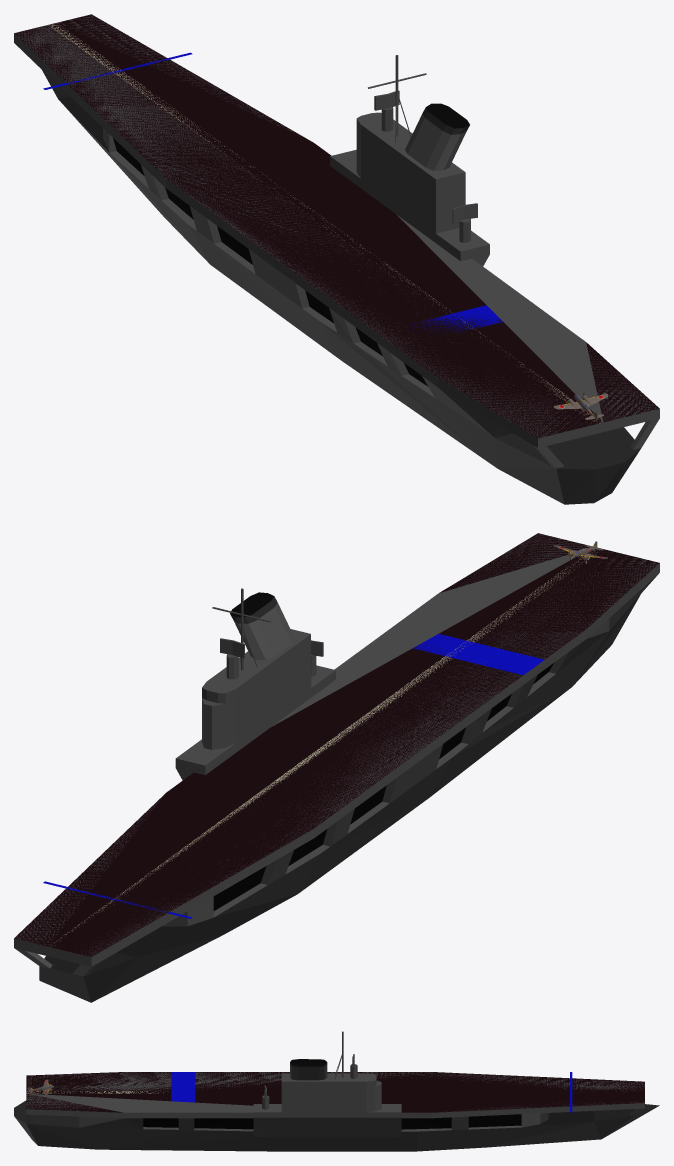
File: Shinano.obj
The picture shows the model from 3 angles, top to bottom: view 1: azimuth 30°, elevation 25°; view 2: azimuth 150°, elevation 25°; view 3: azimuth 270°, elevation 25°; orthographic projection. The views are drawn at different scales.
Visible parts, largest first — view 1: ShapeIndexedFaceSet.008_ShapeIndexedFaceSet.009, ShapeIndexedFaceSet_ShapeIndexedFaceSet.001, ShapeIndexedFaceSet.001_ShapeIndexedFaceSet.002, ShapeIndexedFaceSet.002_ShapeIndexedFaceSet.003, ShapeIndexedFaceSet.009_ShapeIndexedFaceSet.010, ShapeIndexedFaceSet.004_ShapeIndexedFaceSet.005, ShapeIndexedFaceSet.003_ShapeIndexedFaceSet.004; view 2: ShapeIndexedFaceSet.008_ShapeIndexedFaceSet.009, ShapeIndexedFaceSet_ShapeIndexedFaceSet.001, ShapeIndexedFaceSet.002_ShapeIndexedFaceSet.003, ShapeIndexedFaceSet.009_ShapeIndexedFaceSet.010, ShapeIndexedFaceSet.004_ShapeIndexedFaceSet.005, ShapeIndexedFaceSet.003_ShapeIndexedFaceSet.004, ShapeIndexedFaceSet.001_ShapeIndexedFaceSet.002, ShapeIndexedFaceSet.007_ShapeIndexedFaceSet.008; view 3: ShapeIndexedFaceSet_ShapeIndexedFaceSet.001, ShapeIndexedFaceSet.008_ShapeIndexedFaceSet.009, ShapeIndexedFaceSet.002_ShapeIndexedFaceSet.003, ShapeIndexedFaceSet.001_ShapeIndexedFaceSet.002, ShapeIndexedFaceSet.009_ShapeIndexedFaceSet.010, ShapeIndexedFaceSet.003_ShapeIndexedFaceSet.004, ShapeIndexedFaceSet.007_ShapeIndexedFaceSet.008.
Part boxes in pixels (bbox=[...]): ShapeIndexedFaceSet.008_ShapeIndexedFaceSet.009: bbox=[14, 14, 659, 438]; ShapeIndexedFaceSet_ShapeIndexedFaceSet.001: bbox=[14, 15, 659, 504]; ShapeIndexedFaceSet.001_ShapeIndexedFaceSet.002: bbox=[422, 107, 640, 469]; ShapeIndexedFaceSet.002_ShapeIndexedFaceSet.003: bbox=[113, 103, 469, 386]; ShapeIndexedFaceSet.009_ShapeIndexedFaceSet.010: bbox=[411, 305, 502, 333]; ShapeIndexedFaceSet.004_ShapeIndexedFaceSet.005: bbox=[49, 23, 602, 423]; ShapeIndexedFaceSet.003_ShapeIndexedFaceSet.004: bbox=[58, 96, 108, 151]; ShapeIndexedFaceSet.008_ShapeIndexedFaceSet.009: bbox=[14, 533, 659, 957]; ShapeIndexedFaceSet_ShapeIndexedFaceSet.001: bbox=[14, 534, 659, 1002]; ShapeIndexedFaceSet.002_ShapeIndexedFaceSet.003: bbox=[213, 592, 553, 910]; ShapeIndexedFaceSet.009_ShapeIndexedFaceSet.010: bbox=[413, 634, 544, 675]; ShapeIndexedFaceSet.004_ShapeIndexedFaceSet.005: bbox=[51, 550, 599, 944]; ShapeIndexedFaceSet.003_ShapeIndexedFaceSet.004: bbox=[117, 918, 212, 957]; ShapeIndexedFaceSet.001_ShapeIndexedFaceSet.002: bbox=[39, 595, 638, 980]; ShapeIndexedFaceSet.007_ShapeIndexedFaceSet.008: bbox=[44, 952, 136, 973]; ShapeIndexedFaceSet_ShapeIndexedFaceSet.001: bbox=[14, 1031, 658, 1151]; ShapeIndexedFaceSet.008_ShapeIndexedFaceSet.009: bbox=[26, 1072, 644, 1112]; ShapeIndexedFaceSet.002_ShapeIndexedFaceSet.003: bbox=[143, 1059, 521, 1129]; ShapeIndexedFaceSet.001_ShapeIndexedFaceSet.002: bbox=[14, 1062, 659, 1127]; ShapeIndexedFaceSet.009_ShapeIndexedFaceSet.010: bbox=[171, 1072, 195, 1102]; ShapeIndexedFaceSet.003_ShapeIndexedFaceSet.004: bbox=[522, 1111, 594, 1127]; ShapeIndexedFaceSet.007_ShapeIndexedFaceSet.008: bbox=[594, 1109, 634, 1121].
Size of the model in its own units: 34.52 by 41.24 by 187.
